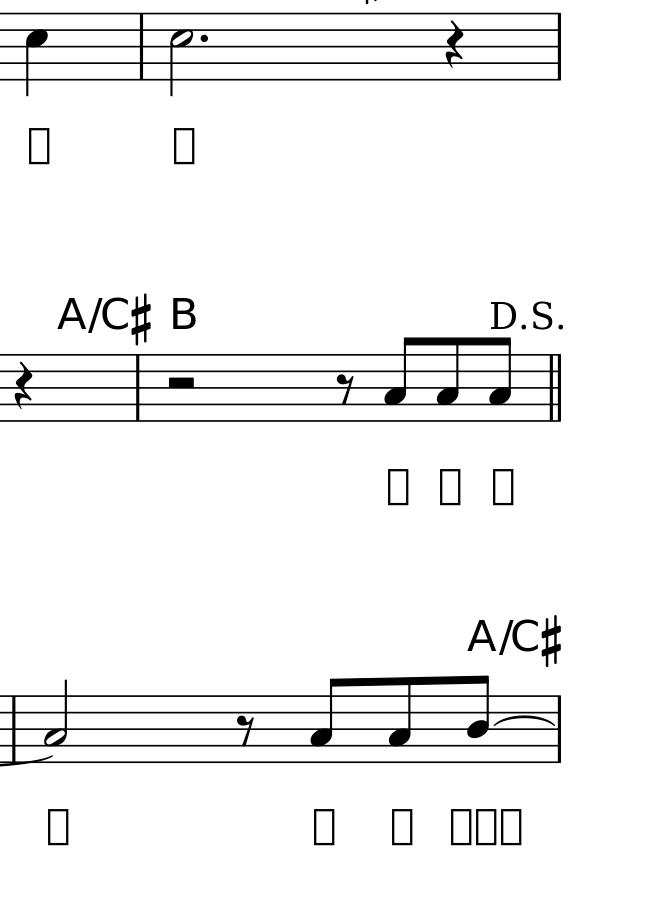2_3: (43, 680, 70, 766)
2_5: (169, 11, 195, 96)
4_5: (25, 11, 50, 95)
8_3: (309, 676, 346, 764), (382, 335, 416, 423), (487, 334, 514, 426), (387, 675, 413, 764), (435, 335, 461, 423)
8_4: (466, 674, 492, 766)
DS: (489, 297, 569, 334)
Double_barline: (546, 353, 567, 422)
Rests2: (165, 372, 201, 393)
Rests4: (443, 19, 466, 70), (12, 360, 35, 408)
Rests8: (334, 371, 357, 408), (235, 713, 257, 746)
Sharp: (539, 613, 565, 669), (129, 294, 155, 346)
Single_barline: (7, 695, 24, 764), (553, 695, 568, 765), (552, 10, 566, 84), (134, 13, 149, 81), (131, 354, 145, 424)
Slur: (493, 715, 558, 729)
dot: (196, 28, 213, 48), (198, 32, 211, 46)
